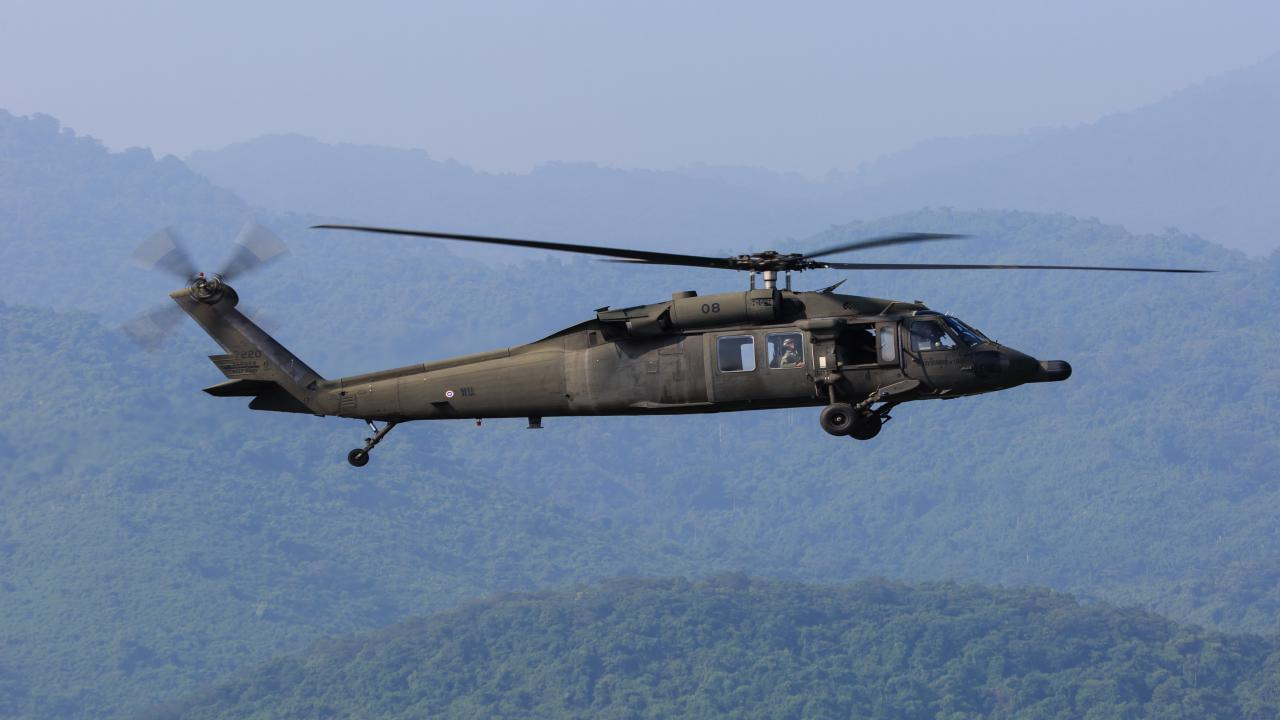Helicopter: (105, 202, 1226, 483)
